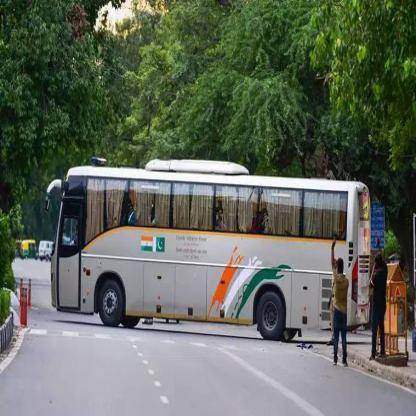bus: (51, 283, 415, 415)
